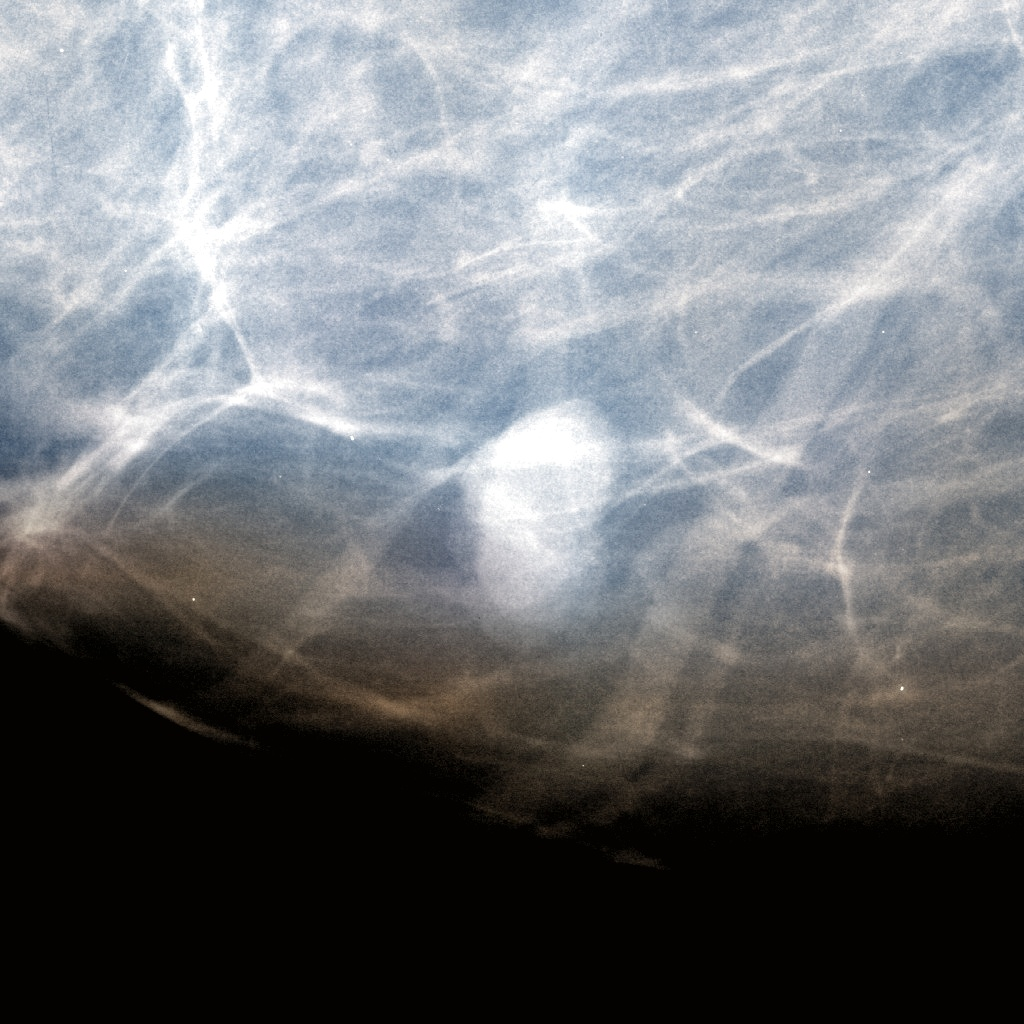tumor: (420, 414, 604, 610)
